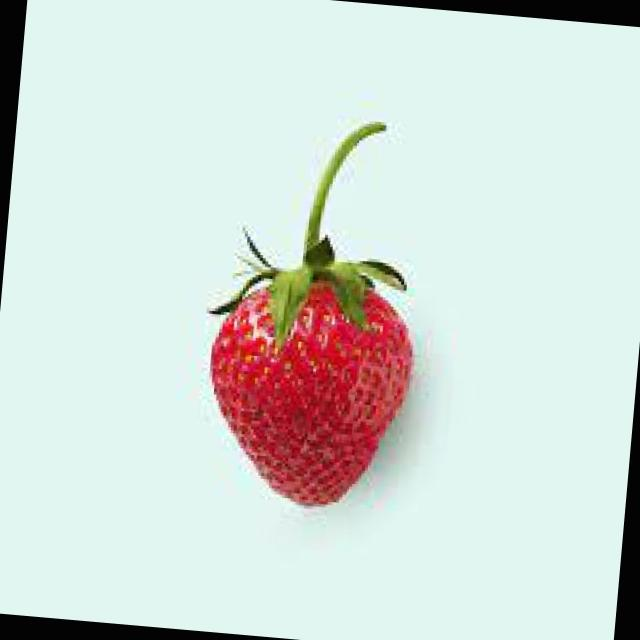strawberry: (166, 130, 427, 538)
